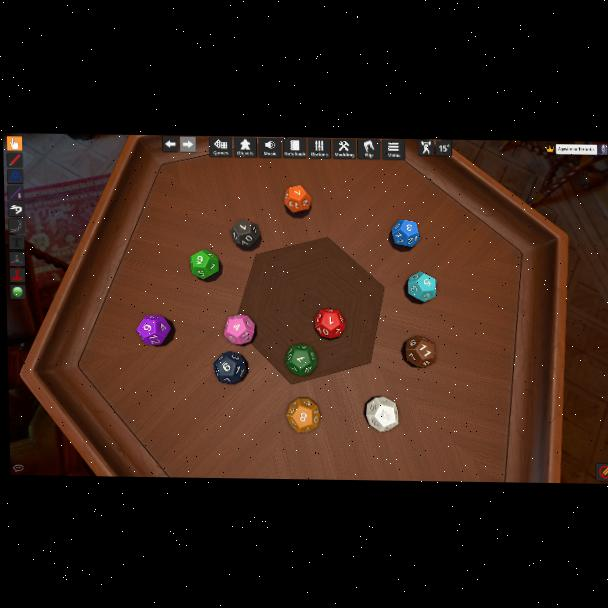d12: (286, 399, 321, 434), (136, 314, 173, 346), (212, 353, 246, 386), (365, 396, 397, 431), (285, 344, 317, 377), (223, 315, 254, 346), (407, 336, 437, 368), (406, 271, 436, 303), (314, 309, 346, 339), (189, 250, 218, 280), (230, 219, 258, 248), (284, 185, 311, 214), (391, 220, 417, 248)
